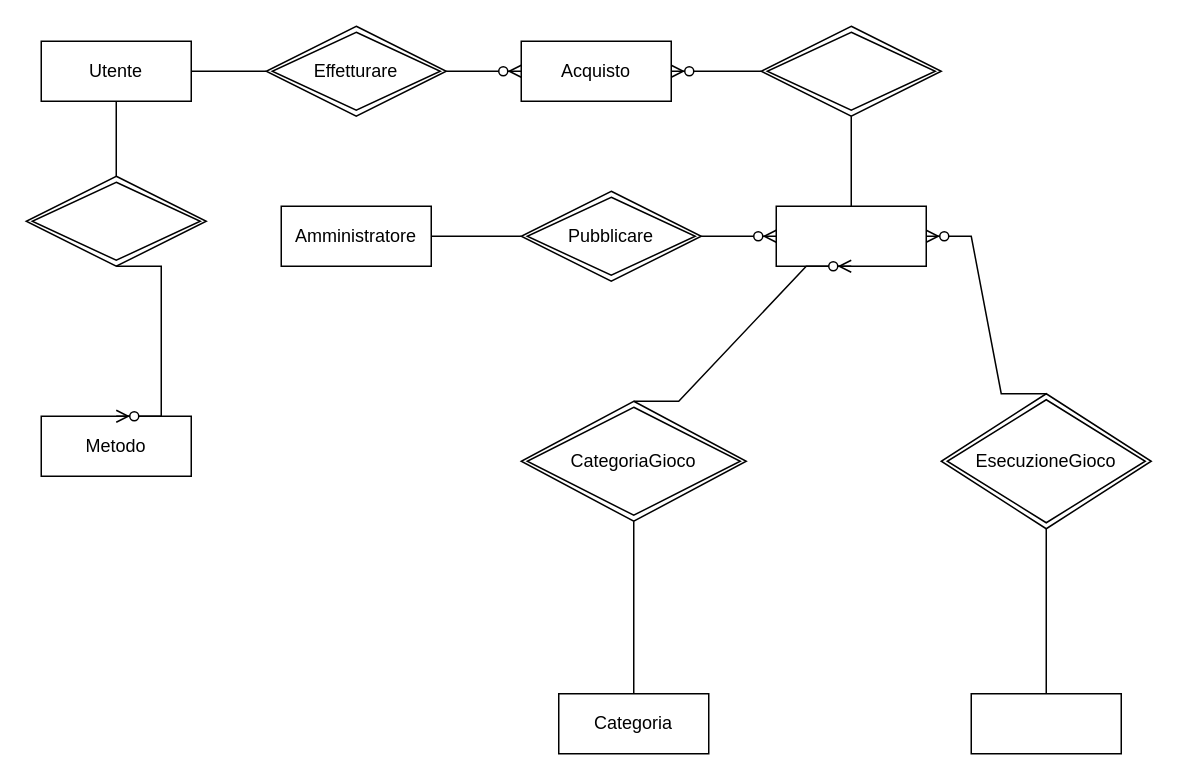
Image size: 1178x780. Some labels were removed from this diagram. Each missing label, with the box of its shape:
Console: (970, 692, 1121, 754)
Essere parte: (760, 25, 941, 116)
Gioco: (775, 205, 926, 266)
Usare: (25, 175, 206, 266)
